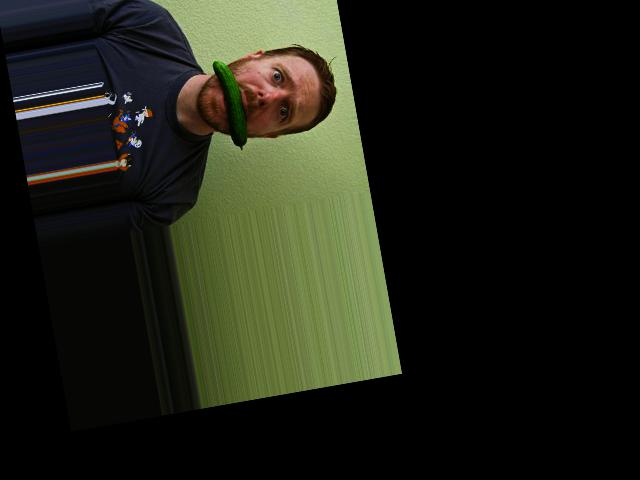cucumber: (211, 56, 250, 153)
